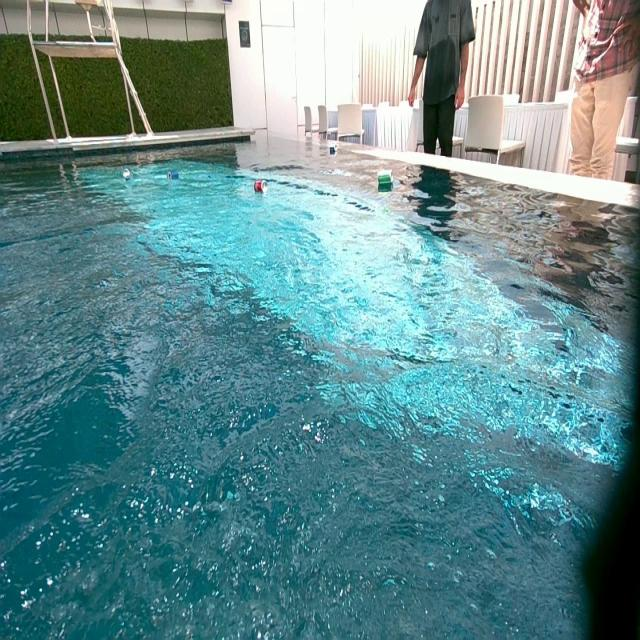Cans: (378, 172, 392, 186), (253, 179, 266, 194), (167, 170, 182, 182), (121, 168, 131, 181), (328, 145, 336, 154)
